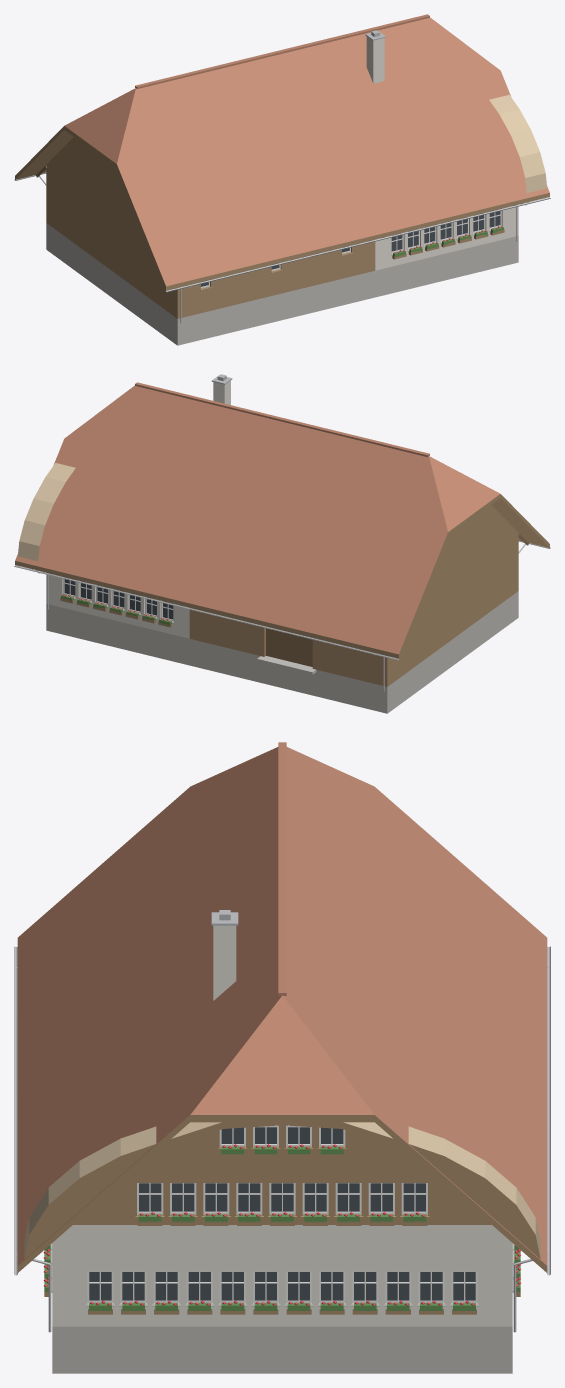
File: farmhouse_l.glb
3 views of the same model, one above another, from view 1: azimuth 30°, elevation 25°; view 2: azimuth 150°, elevation 25°; view 3: azimuth 270°, elevation 25° (orthographic). The views are drawn at different scales.
Parts seen in each view (by area): view 1: farmhouse_l; view 2: farmhouse_l; view 3: farmhouse_l.
Boxes of the visible parts, <box> form: farmhouse_l: <box>14,14,550,345</box>; farmhouse_l: <box>14,374,550,713</box>; farmhouse_l: <box>14,742,550,1373</box>.
Bounding box in the file's own units: 27 × 14.61 × 18.66.
